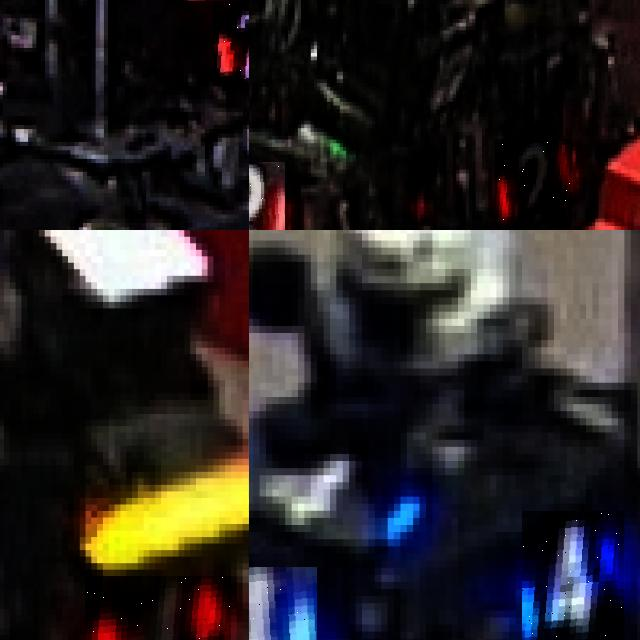B4: (521, 510, 624, 640), (249, 567, 317, 640)
R2: (495, 139, 572, 230), (213, 0, 249, 86), (249, 162, 284, 230)
R4: (85, 576, 230, 640)
